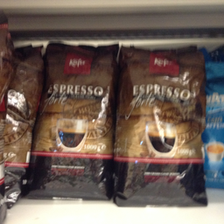coffee: (20, 41, 116, 203), (117, 45, 207, 207)
